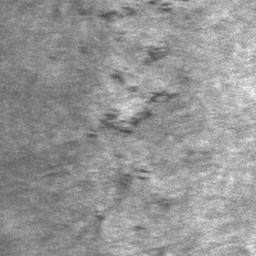Rolled in scale: (87, 70, 179, 140), (148, 0, 189, 13), (145, 42, 167, 64), (124, 167, 150, 183), (184, 150, 210, 165), (100, 7, 133, 18), (94, 210, 105, 221), (134, 226, 145, 232)
